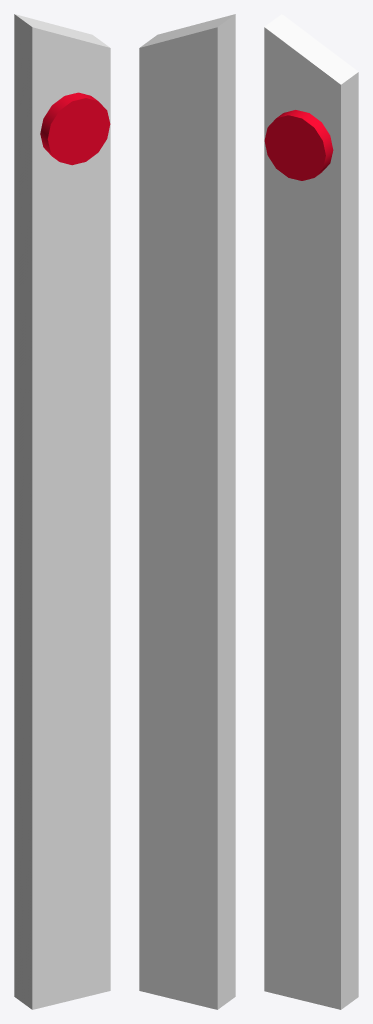
Rendered from reflector.fbx.
3 views of the same model, side by side, from view 1: azimuth 30°, elevation 25°; view 2: azimuth 150°, elevation 25°; view 3: azimuth 330°, elevation 25° (orthographic).
Parts seen in each view (by area): view 1: pCube12; view 2: pCube12; view 3: pCube12.
Part boxes in pixels (x1,y1,x2,y2): pCube12: (14,14,110,1009); pCube12: (139,14,235,1009); pCube12: (264,14,358,1009).
Bounding box in the file's own units: 7.39 × 88.71 × 4.19.
1 material, 1 textured.
